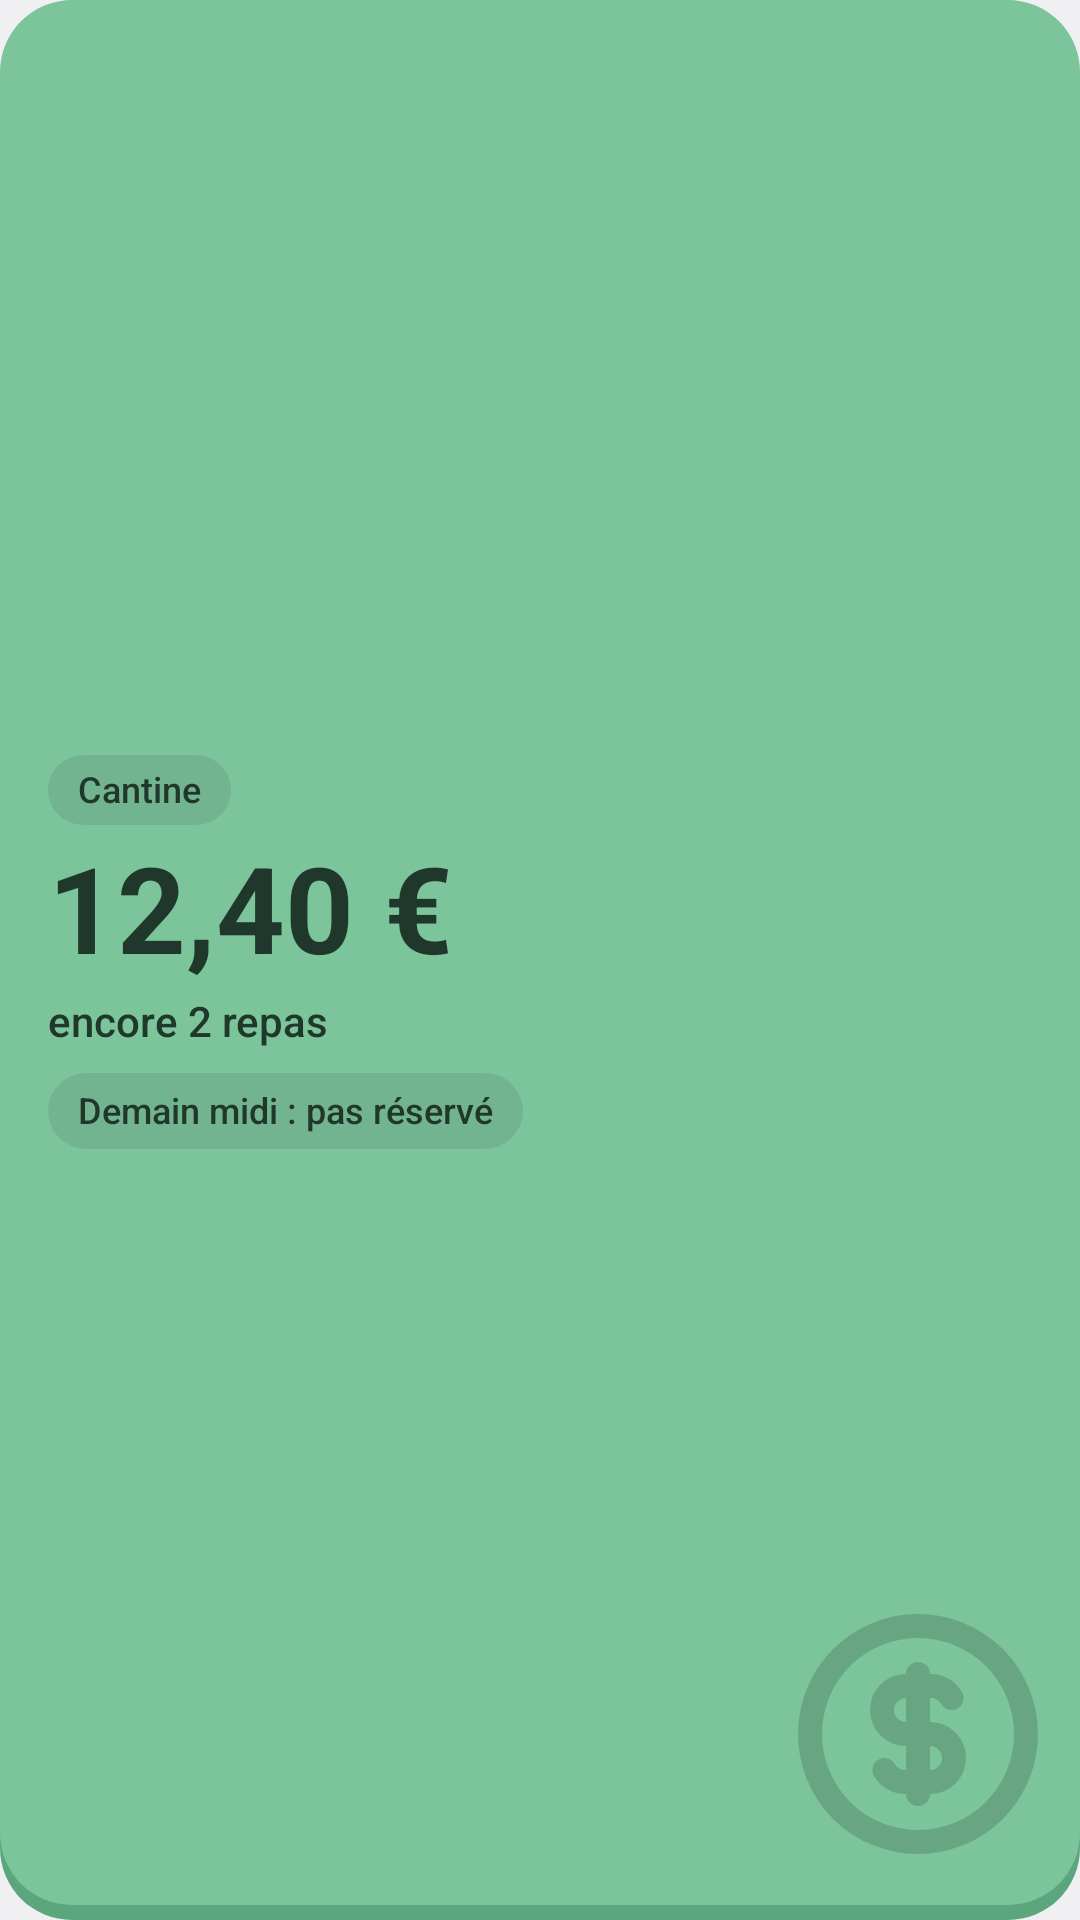

Where to tap for icons on this 1080 x 1920 app screen, as point (x, y):
coin: point (918, 1734)
